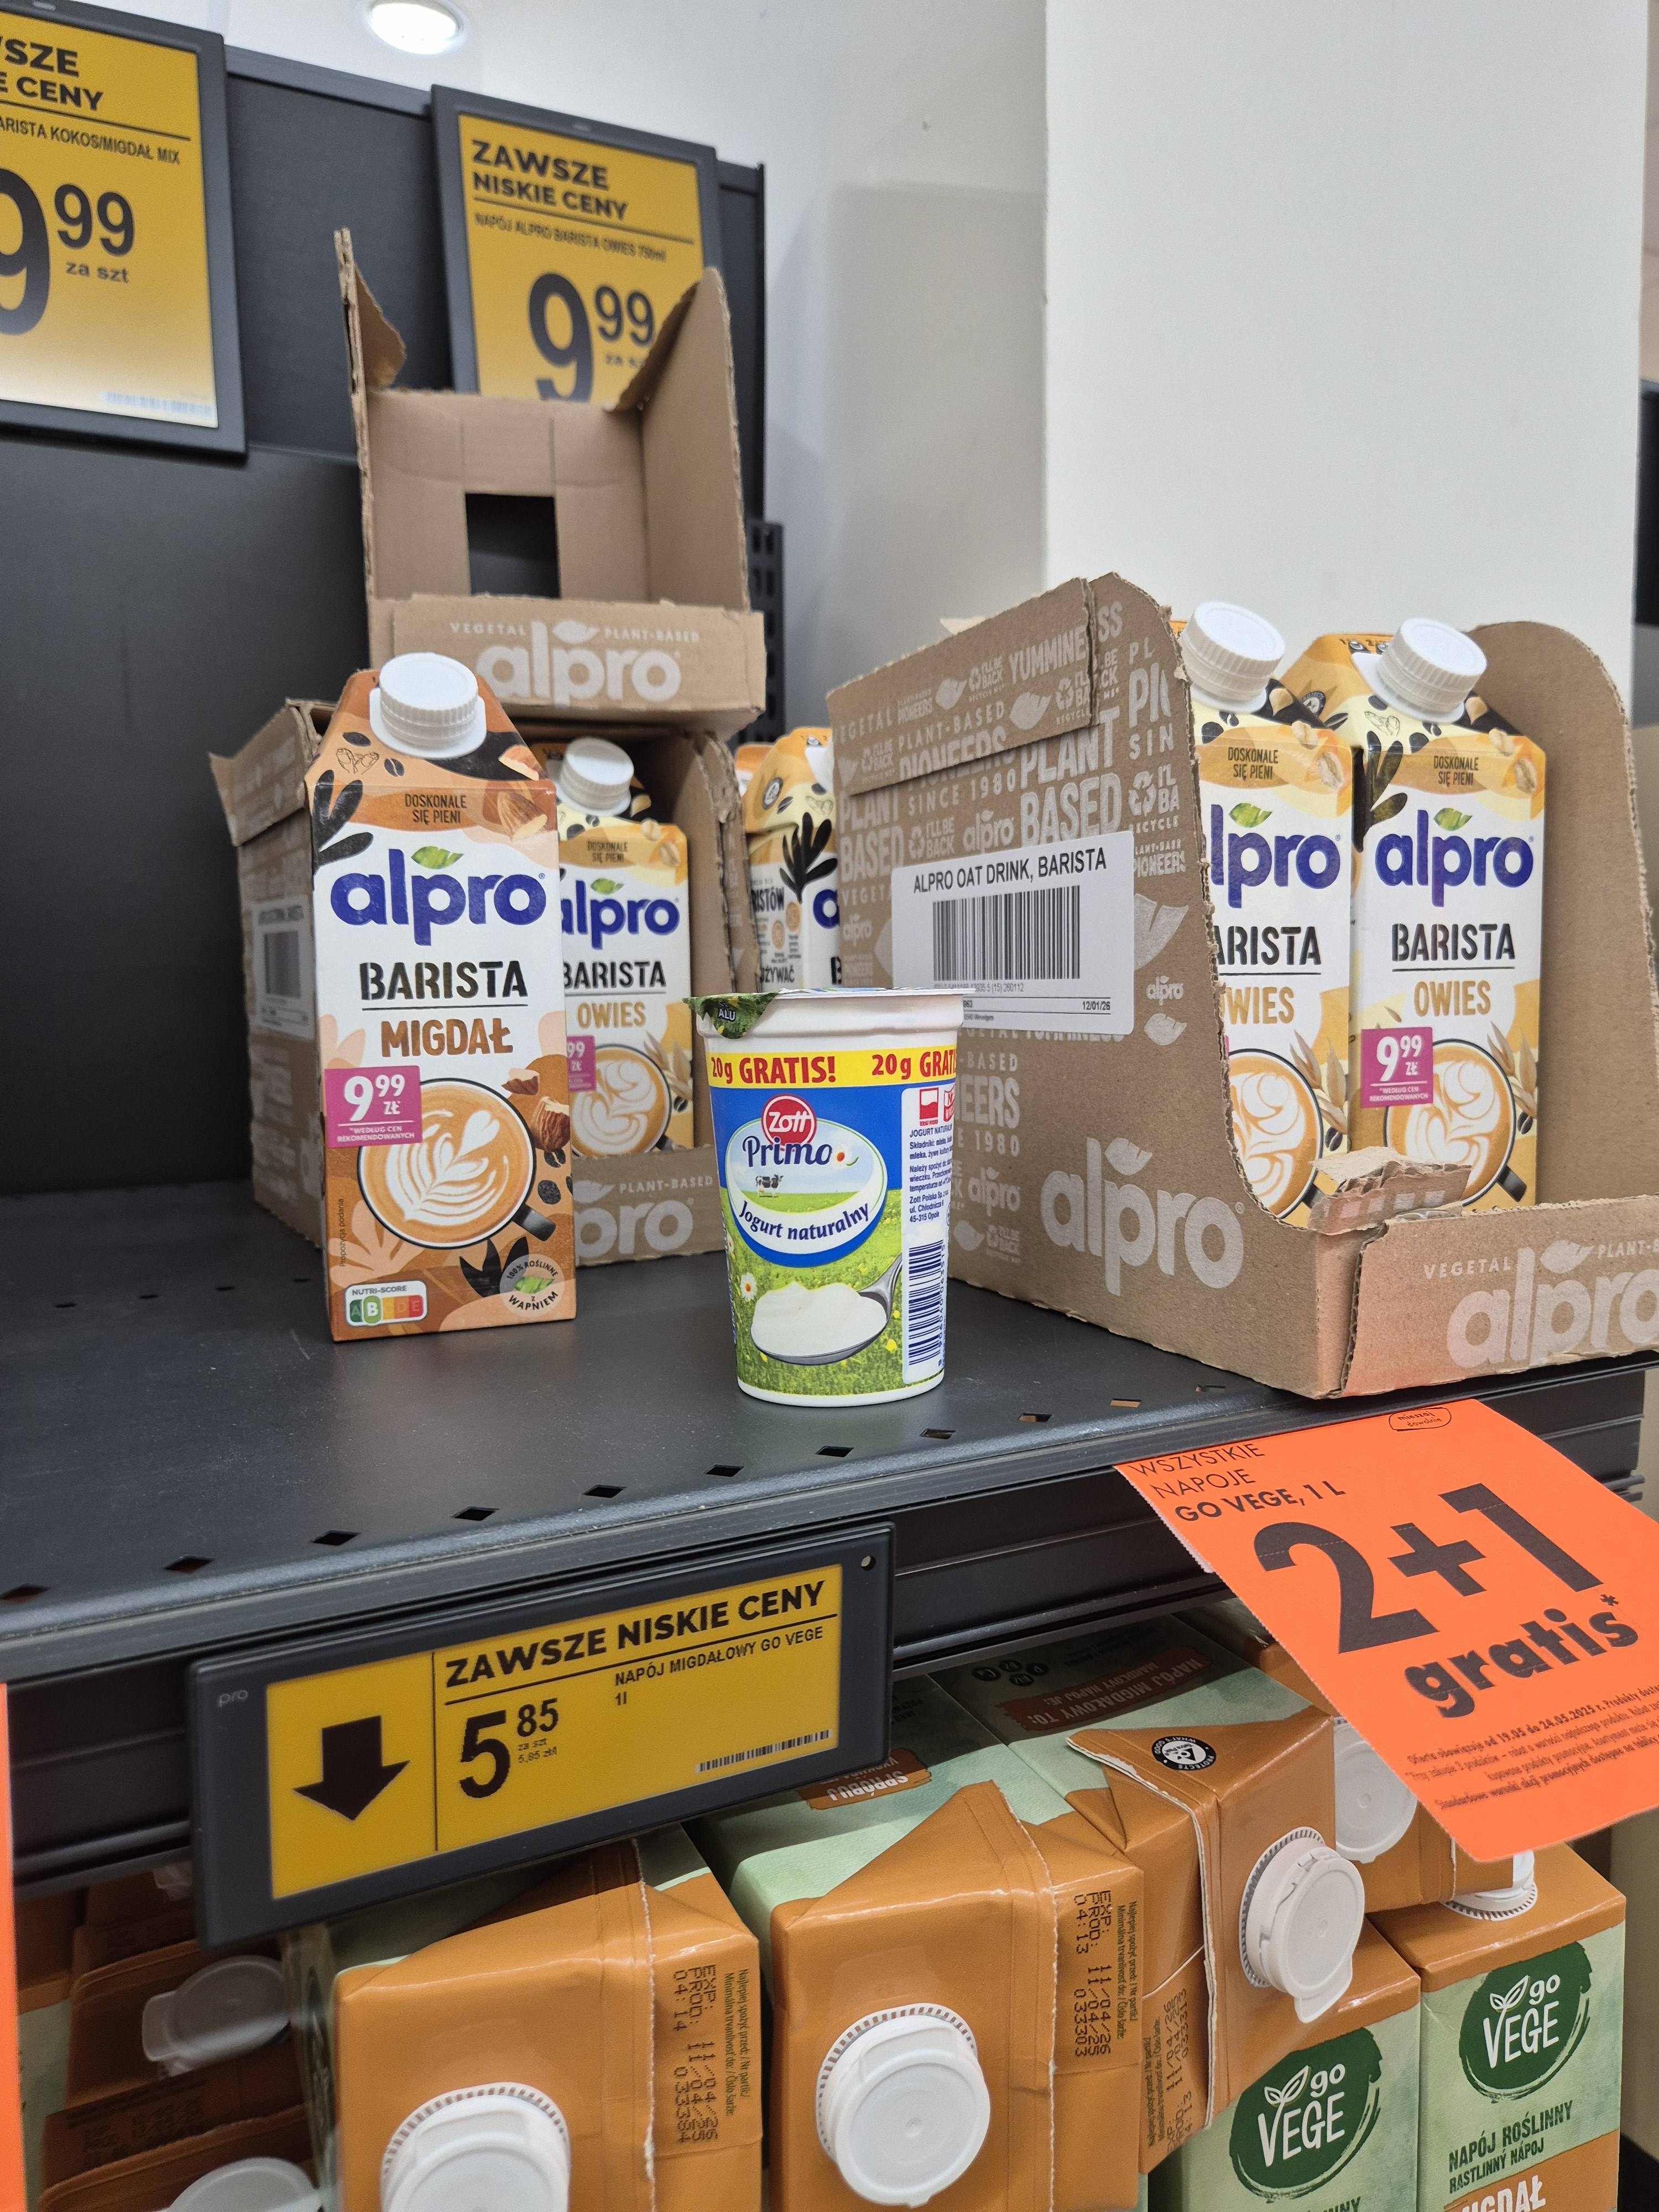Yogurt: (681, 960, 997, 1432)
